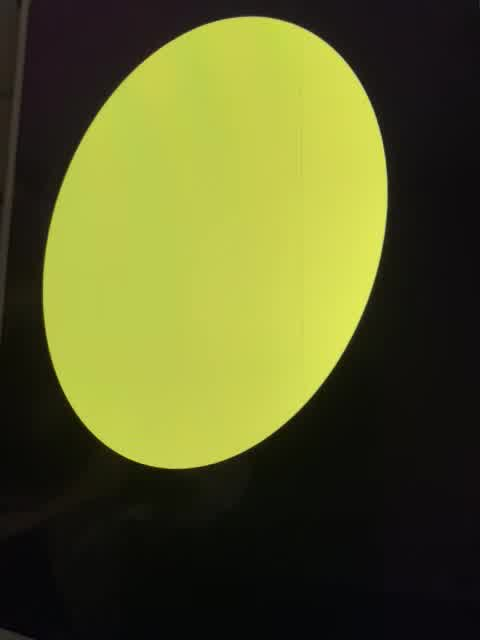left: (29, 9, 399, 480)
